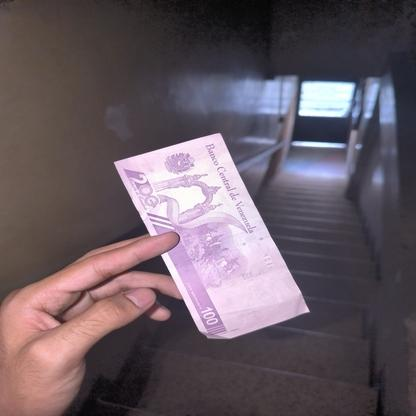one_hundred-back-vef: (113, 132, 310, 339)
